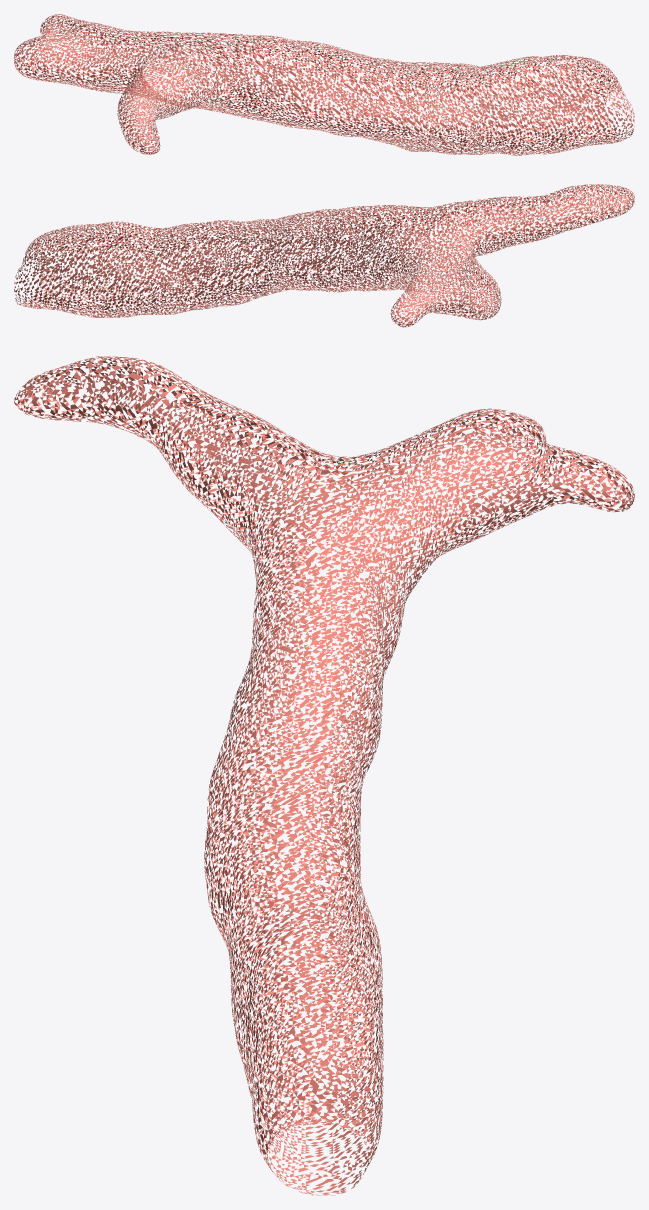
File: diseased.glb
3 renders of one model, top to bottom at view 1: azimuth 30°, elevation 25°; view 2: azimuth 150°, elevation 25°; view 3: azimuth 270°, elevation 25°, orthographic. The views are drawn at different scales.
Bounding box in the file's own units: 156 × 56.53 × 84.41.
